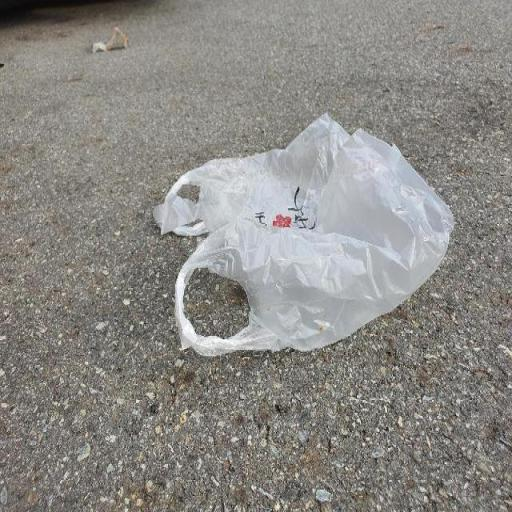plastic-bag: (151, 110, 457, 360)
